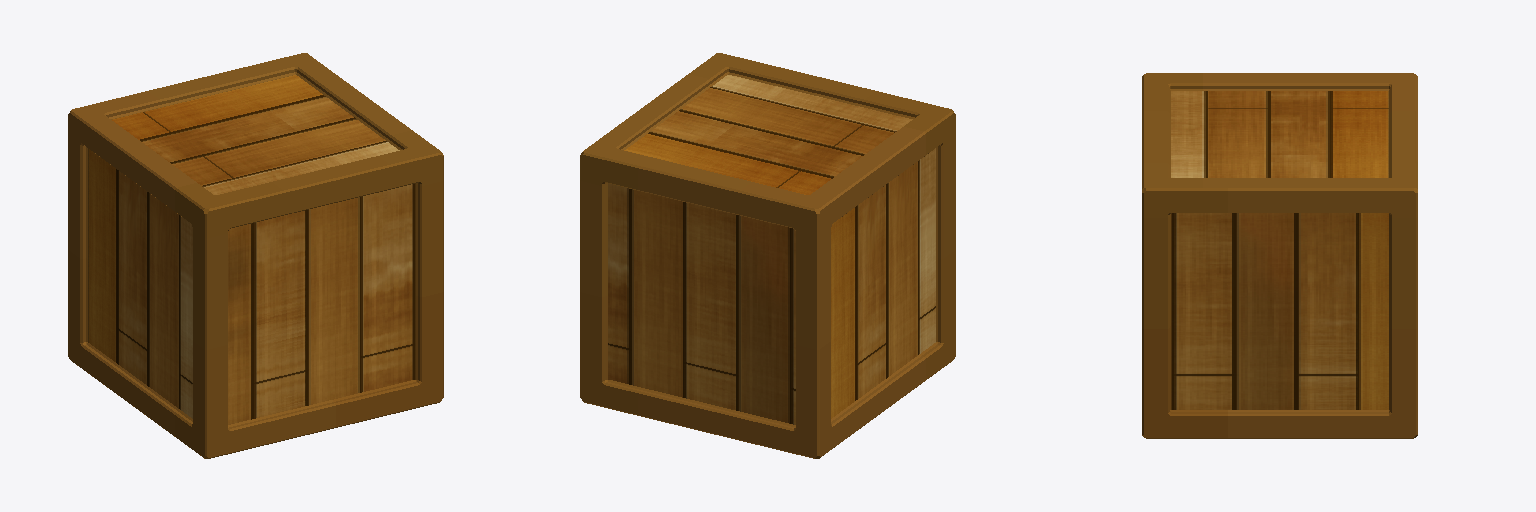
3 views of the same model, side by side, from view 1: azimuth 30°, elevation 25°; view 2: azimuth 150°, elevation 25°; view 3: azimuth 270°, elevation 25° (orthographic).
Parts seen in each view (by area): view 1: Cube; view 2: Cube; view 3: Cube.
Part boxes in pixels (left/top/right/bottom): Cube: left=68, top=53, right=443, bottom=458; Cube: left=580, top=53, right=955, bottom=458; Cube: left=1142, top=73, right=1417, bottom=438.
Size of the model in its own units: 2 by 2 by 2.
Materials: 1 (1 with a texture image).